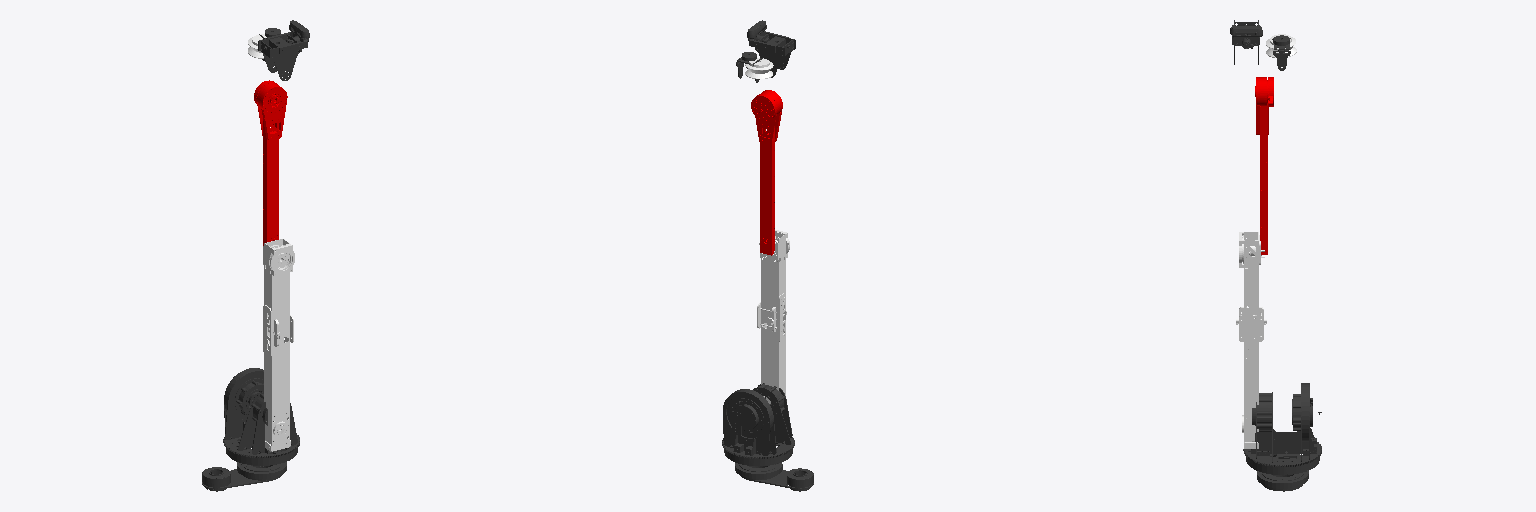
robot.urdf — robotic_arm:
<?xml version="1.0" encoding="utf-8"?>
<!-- This URDF was automatically created by SolidWorks to URDF Exporter! Originally created by [author] ([email redacted]) 
     Commit Version: 1.6.0-4-g7f85cfe  Build Version: 1.6.7995.38578
     For more information, please see http://wiki.ros.org/sw_urdf_exporter -->
<robot
  name="robotic_arm">
  <ros2_control name="arm_hw" type="system">
    <hardware>
      <plugin>mycontrol/MyControl</plugin>
    </hardware>

    <joint name="joint1">
      <command_interface name="position"/>
      <command_interface name="velocity"/>
      <command_interface name="effort"/>
      <state_interface name="position"/>
      <state_interface name="velocity"/>
    </joint>

    <joint name="joint2">
      <command_interface name="position"/>
      <command_interface name="velocity"/>
      <command_interface name="effort"/>
      <state_interface name="position"/>
      <state_interface name="velocity"/>
    </joint>

    <joint name="joint3">
      <command_interface name="position"/>
      <command_interface name="velocity"/>
      <command_interface name="effort"/>
      <state_interface name="position"/>
      <state_interface name="velocity"/>
    </joint>

    <joint name="joint4">
      <command_interface name="position"/>
      <command_interface name="velocity"/>
      <command_interface name="effort"/>
      <state_interface name="position"/>
      <state_interface name="velocity"/>
    </joint>

    <joint name="joint5">
      <command_interface name="position"/>
      <command_interface name="velocity"/>
      <command_interface name="effort"/>
      <state_interface name="position"/>
      <state_interface name="velocity"/>
    </joint>

    <joint name="joint6">
      <command_interface name="position"/>
      <command_interface name="velocity"/>
      <command_interface name="effort"/>
      <state_interface name="position"/>
      <state_interface name="velocity"/>
    </joint>

</ros2_control>

  <link
    name="base_link">
    <!-- <inertial>
      <origin
        xyz="-5.0772472731872E-06 7.12114657230867E-06 0.0170982136548663"
        rpy="0 0 0" />
      <mass
        value="0.450435332011656" />
      <inertia
        ixx="0.00143215882760029"
        ixy="7.61256683542249E-08"
        ixz="-1.65255444733001E-08"
        iyy="0.0013888100836738"
        iyz="-1.00211655132299E-07"
        izz="0.00280394558537538" />
    </inertial> -->
    <visual>
      <origin
        xyz="0 0 0"
        rpy="0 0 0" />
      <geometry>
        <mesh
          filename="package://robotic_arm/meshes/base_link.STL" />
      </geometry>
      <material
        name="">
        <color
          rgba="0.294117647058824 0.294117647058824 0.294117647058824 1" />
      </material>
    </visual>
    <collision>
      <origin
        xyz="0 0 0"
        rpy="0 0 0" />
      <geometry>
        <mesh
          filename="package://robotic_arm/meshes/base_link.STL" />
      </geometry>
    </collision>
  </link>
  <link
    name="link1">
    <inertial>
      <origin
        xyz="-0.000942903970494555 -0.041549910801557 0.020414894517757"
        rpy="0 0 0" />
      <mass
        value="1.58241928661162" />
      <inertia
        ixx="0.00813419832186833"
        ixy="1.00211664137222E-07"
        ixz="7.61256717367727E-08"
        iyy="0.00668533495424089"
        iyz="1.39882789457171E-06"
        izz="0.0133215945680921" />
    </inertial>
    <visual>
      <origin
        xyz="0 0 0"
        rpy="0 0 0" />
      <geometry>
        <mesh
          filename="package://robotic_arm/meshes/link1.STL" />
      </geometry>
      <material
        name="">
        <color
          rgba="0.294117647058824 0.294117647058824 0.294117647058824 1" />
      </material>
    </visual>
    <collision>
      <origin
        xyz="0 0 0"
        rpy="0 0 0" />
      <geometry>
        <mesh
          filename="package://robotic_arm/meshes/link1.STL" />
      </geometry>
    </collision>
  </link>
  <joint
    name="joint1"
    type="revolute">
    <origin
      xyz="0 1.09157351461941E-05 0.0566"
      rpy="0 0 0.0" />
    <parent
      link="base_link" />
    <child
      link="link1" />
    <axis
      xyz="0 0 -1" />
    <limit
      lower="-1.47"
      upper="1.47"
      effort="50"
      velocity="10" />
  </joint>
  <link
    name="link2">
    <inertial>
      <origin
        xyz="0.103295549770053 0.00421067903257723 0.139471425083867"
        rpy="0 0 0" />
      <mass
        value="2.73444383071047" />
      <inertia
        ixx="0.0025179418593008"
        ixy="-1.56886370881729E-05"
        ixz="-4.5962364745091E-06"
        iyy="0.0232532269058925"
        iyz="5.36152077938888E-08"
        izz="0.0249857350269595" />
    </inertial>
    <visual>
      <origin
        xyz="0 0 0"
        rpy="0 0 0" />
      <geometry>
        <mesh
          filename="package://robotic_arm/meshes/link2.STL" />
      </geometry>
      <material
        name="">
        <color
          rgba="1 1 1 1" />
      </material>
    </visual>
    <collision>
      <origin
        xyz="0 0 0"
        rpy="0 0 0" />
      <geometry>
        <mesh
          filename="package://robotic_arm/meshes/link2.STL" />
      </geometry>
    </collision>
  </link>
  <joint
    name="joint2"
    type="revolute">
    <origin
      xyz="0 -0.121299999999996 0.118000000000003"
      rpy="-1.5707963267949 -1.5707963267949 0" />
    <parent
      link="link1" />
    <child
      link="link2" />
    <axis
      xyz="0 0 -1" />
    <limit
      lower="-1.47"
      upper="1.47"
      effort="50"
      velocity="10" />
  </joint>
  <link
    name="link3">
    <inertial>
      <origin
        xyz="0.172687365065934 4.58087749977132E-06 0.0140043159606315"
        rpy="0 0 0" />
      <mass
        value="2.26799555337397" />
      <inertia
        ixx="0.00089529385541647"
        ixy="3.16645194297698E-08"
        ixz="-4.32112880696697E-06"
        iyy="0.00607391281496737"
        iyz="3.99458566171276E-09"
        izz="0.00617438853662016" />
    </inertial>
    <visual>
      <origin
        xyz="0 0 0"
        rpy="0 0 0" />
      <geometry>
        <mesh
          filename="package://robotic_arm/meshes/link3.STL" />
      </geometry>
      <material
        name="">
        <color
          rgba="1 0 0 1" />
      </material>
    </visual>
    <collision>
      <origin
        xyz="0 0 0"
        rpy="0 0 0" />
      <geometry>
        <mesh
          filename="package://robotic_arm/meshes/link3.STL" />
      </geometry>
    </collision>
  </link>
  <joint
    name="joint3"
    type="revolute">
    <origin
      xyz="0.555000000000002 0 0.0804999999999991"
      rpy="0 0 0" />
    <parent
      link="link2" />
    <child
      link="link3" />
    <axis
      xyz="0 0 1" />
    <limit
      lower="-3.14159"
      upper="3.14159"
      effort="50"
      velocity="10" />
  </joint>
  <link
    name="link4">
    <inertial>
      <origin
        xyz="-0.000342634907477324 0.0245340393148304 0.045699862120503"
        rpy="0 0 0" />
      <mass
        value="0.196984301264057" />
      <inertia
        ixx="5.83639681505122E-05"
        ixy="-1.98589877324077E-09"
        ixz="-1.18367074602619E-07"
        iyy="2.60688986363254E-05"
        iyz="-3.89401975626195E-07"
        izz="5.92611166310502E-05" />
    </inertial>
    <visual>
      <origin
        xyz="0 0 0"
        rpy="0 0 0" />
      <geometry>
        <mesh
          filename="package://robotic_arm/meshes/link4.STL" />
      </geometry>
      <material
        name="">
        <color
          rgba="0.294117647058824 0.294117647058824 0.294117647058824 1" />
      </material>
    </visual>
    <collision>
      <origin
        xyz="0 0 0"
        rpy="0 0 0" />
      <geometry>
        <mesh
          filename="package://robotic_arm/meshes/link4.STL" />
      </geometry>
    </collision>
  </link>
  <joint
    name="joint4"
    type="revolute">
    <origin
      xyz="0.535949999999994 0 -0.0276499999999935"
      rpy="0 0 0" />
    <parent
      link="link3" />
    <child
      link="link4" />
    <axis
      xyz="0 0 1" />
    <limit
      lower="-3.14159"
      upper="3.14159"
      effort="50"
      velocity="10" />
  </joint>
  <link
    name="link5">
    <inertial>
      <origin
        xyz="0.0397752221871948 1.66533453693773E-16 0.0452089943862713"
        rpy="0 0 0" />
      <mass
        value="0.0669824634679072" />
      <inertia
        ixx="2.10580376732057E-05"
        ixy="5.0821976835258E-21"
        ixz="5.9389500029776E-21"
        iyy="2.33658902660405E-05"
        iyz="-5.69100261436483E-22"
        izz="2.01999112880949E-05" />
    </inertial>
    <visual>
      <origin
        xyz="0 0 0"
        rpy="0 0 0" />
      <geometry>
        <mesh
          filename="package://robotic_arm/meshes/link5.STL" />
      </geometry>
      <material
        name="">
        <color
          rgba="0.294117647058824 0.294117647058824 0.294117647058824 1" />
      </material>
    </visual>
    <collision>
      <origin
        xyz="0 0 0"
        rpy="0 0 0" />
      <geometry>
        <mesh
          filename="package://robotic_arm/meshes/link5.STL" />
      </geometry>
    </collision>
  </link>
  <joint
    name="joint5"
    type="revolute">
    <origin
      xyz="0 0.0335000000001389 0.0663799999999916"
      rpy="1.5707963267949 0.0631517658353735 0" />
    <parent
      link="link4" />
    <child
      link="link5" />
    <axis
      xyz="0 0 -1" />
    <limit
      lower="-3.14159"
      upper="3.14159"
      effort="50"
      velocity="10" />
  </joint>
  <link
    name="link6">
    <inertial>
      <origin
        xyz="-5.55111512312578E-17 5.55111512312578E-17 -0.0322637891458444"
        rpy="0 0 0" />
      <mass
        value="0.145741627039506" />
      <inertia
        ixx="7.69727718713036E-05"
        ixy="-6.14098886759368E-21"
        ixz="1.15970721879934E-20"
        iyy="7.69727718713035E-05"
        iyz="2.11758236813575E-21"
        izz="0.00010043203802048" />
    </inertial>
    <visual>
      <origin
        xyz="0 0 0"
        rpy="0 0 0" />
      <geometry>
        <mesh
          filename="package://robotic_arm/meshes/link6.STL" />
      </geometry>
      <material
        name="">
        <color
          rgba="1 1 1 1" />
      </material>
    </visual>
    <collision>
      <origin
        xyz="0 0 0"
        rpy="0 0 0" />
      <geometry>
        <mesh
          filename="package://robotic_arm/meshes/link6.STL" />
      </geometry>
    </collision>
  </link>
  <joint
    name="joint6"
    type="revolute">
    <origin
      xyz="0.0585072463768114 0 0.03335"
      rpy="-2.02961305550173 1.57079631189374 1.11099364899658" />
    <parent
      link="link5" />
    <child
      link="link6" />
    <axis
      xyz="0 0 1" />
    <limit
      lower="-3.14159"
      upper="3.14159"
      effort="50"
      velocity="10" />
  </joint>
</robot>

--- Facts derived from the render (not from the file) ---
3 views of the same robot in one strip: view 1: azimuth 30°, elevation 25°; view 2: azimuth 150°, elevation 25°; view 3: azimuth 270°, elevation 25° (orthographic).
Robot: robotic_arm — 7 links, 6 joints (6 revolute); root link base_link; default pose: all joints at 0.
Links seen in each view (by area): view 1: link2, link1, link3, link4, base_link; view 2: link1, link2, link3, base_link, link4; view 3: link1, link2, link3, link4, base_link.
Boxes of the visible links, bbox=[...] form: link2: bbox=[263, 239, 294, 451]; link1: bbox=[223, 368, 299, 465]; link3: bbox=[254, 80, 287, 245]; link4: bbox=[258, 20, 309, 80]; base_link: bbox=[202, 462, 286, 491]; link1: bbox=[722, 383, 794, 465]; link2: bbox=[757, 230, 789, 403]; link3: bbox=[751, 90, 782, 255]; base_link: bbox=[735, 463, 813, 491]; link4: bbox=[747, 20, 795, 77]; link1: bbox=[1243, 383, 1321, 474]; link2: bbox=[1236, 232, 1266, 448]; link3: bbox=[1255, 77, 1273, 254]; link4: bbox=[1230, 20, 1262, 64]; base_link: bbox=[1257, 455, 1308, 491].
Size in the robot's own frame: 0.2889 by 0.2719 by 1.4 metres.
Meshes: 7 distinct files referenced, 7 mesh visuals loaded (7 binary STL).